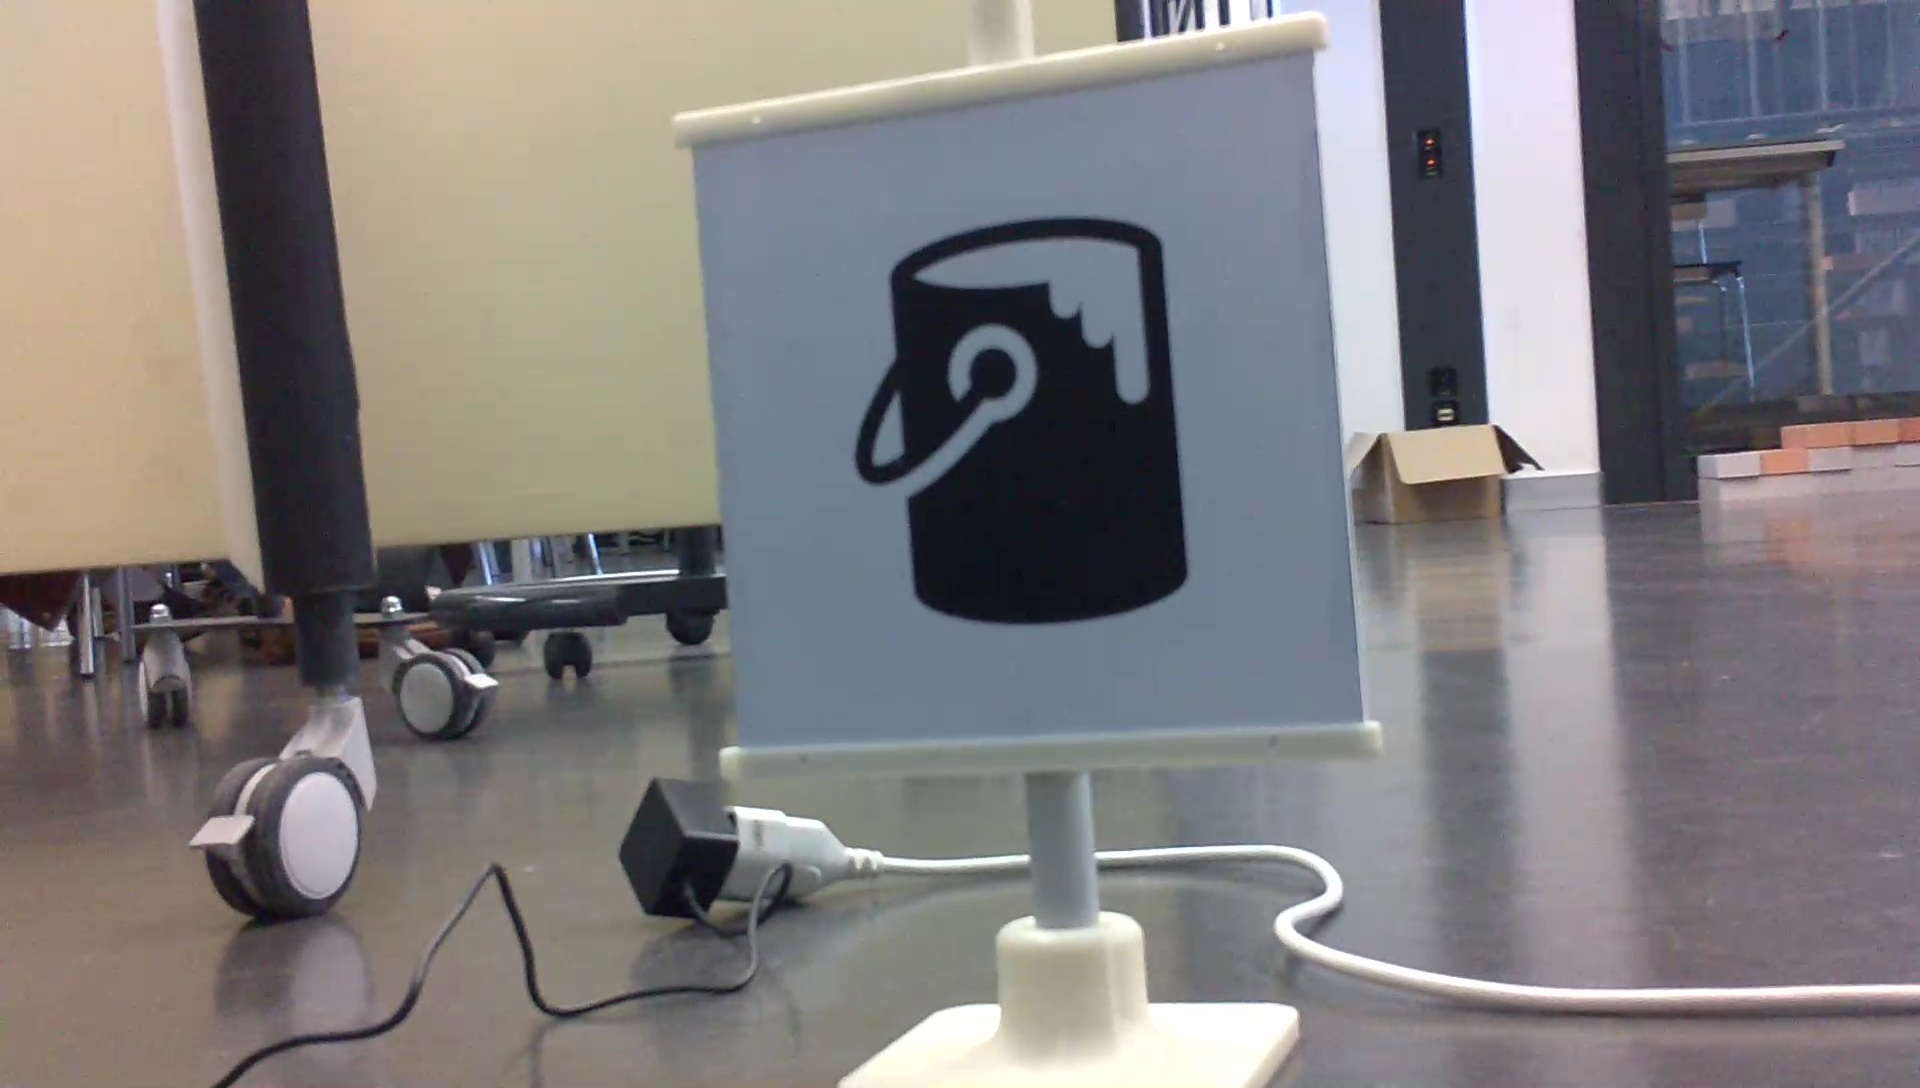bucket: (840, 207, 1200, 638)
